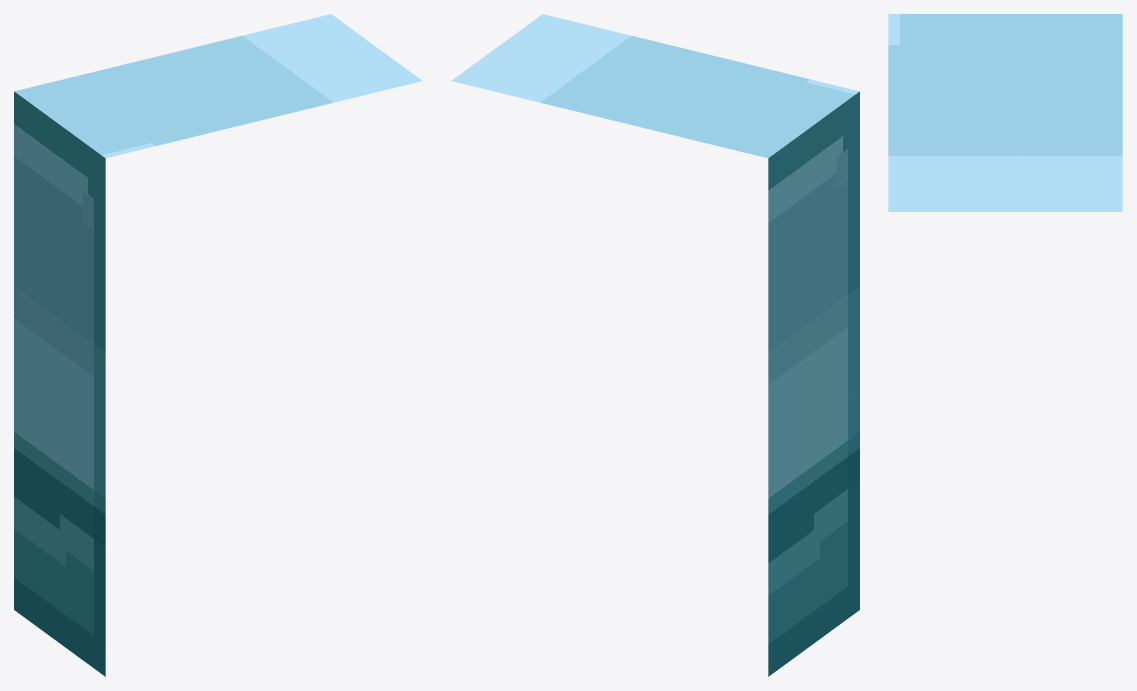
File: hgss-centre-b1-mur-est-profil-0.glb
3 renders of one model, left to right at view 1: azimuth 30°, elevation 25°; view 2: azimuth 150°, elevation 25°; view 3: azimuth 270°, elevation 25°, orthographic. The views are drawn at different scales.
Bounding box in the file's own units: 2 × 3.12 × 1.
2 materials, 2 textured.
